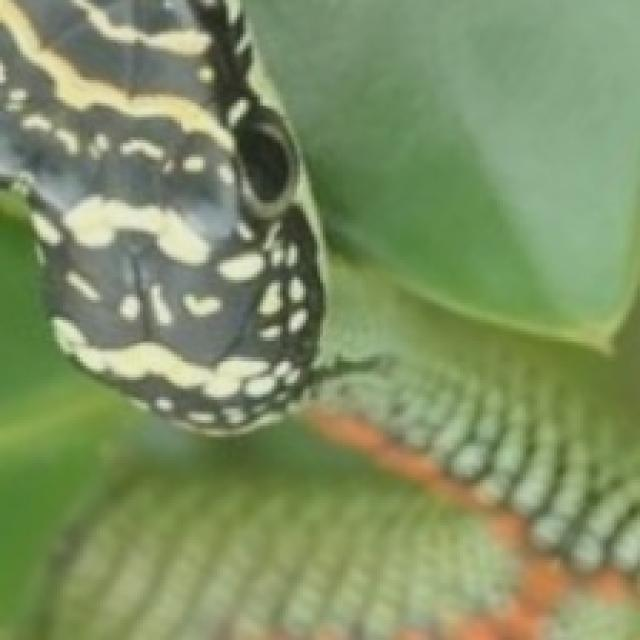paradise tree snake: (0, 0, 637, 637), (0, 0, 323, 431), (0, 0, 311, 357), (146, 274, 177, 331)
